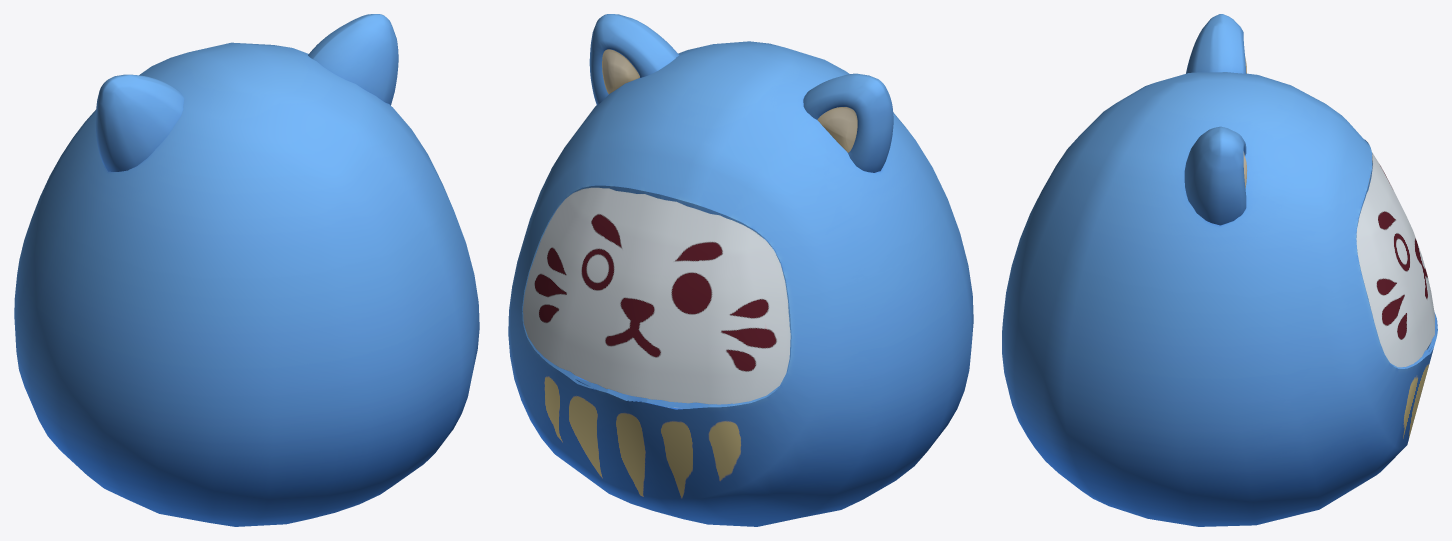
File: latdat.fbx
The picture shows the model from 3 angles, left to right: view 1: azimuth 30°, elevation 25°; view 2: azimuth 150°, elevation 25°; view 3: azimuth 270°, elevation 25°; orthographic projection. The views are drawn at different scales.
Parts seen in each view (by area): view 1: lat_fat; view 2: lat_fat; view 3: lat_fat.
Boxes of the visible parts, left/top/right/bottom form: lat_fat: left=14, top=14, right=479, bottom=526; lat_fat: left=508, top=14, right=973, bottom=526; lat_fat: left=1002, top=14, right=1437, bottom=526.
Size of the model in its own units: 77.42 by 83.7 by 77.57.
1 material, 1 textured.
